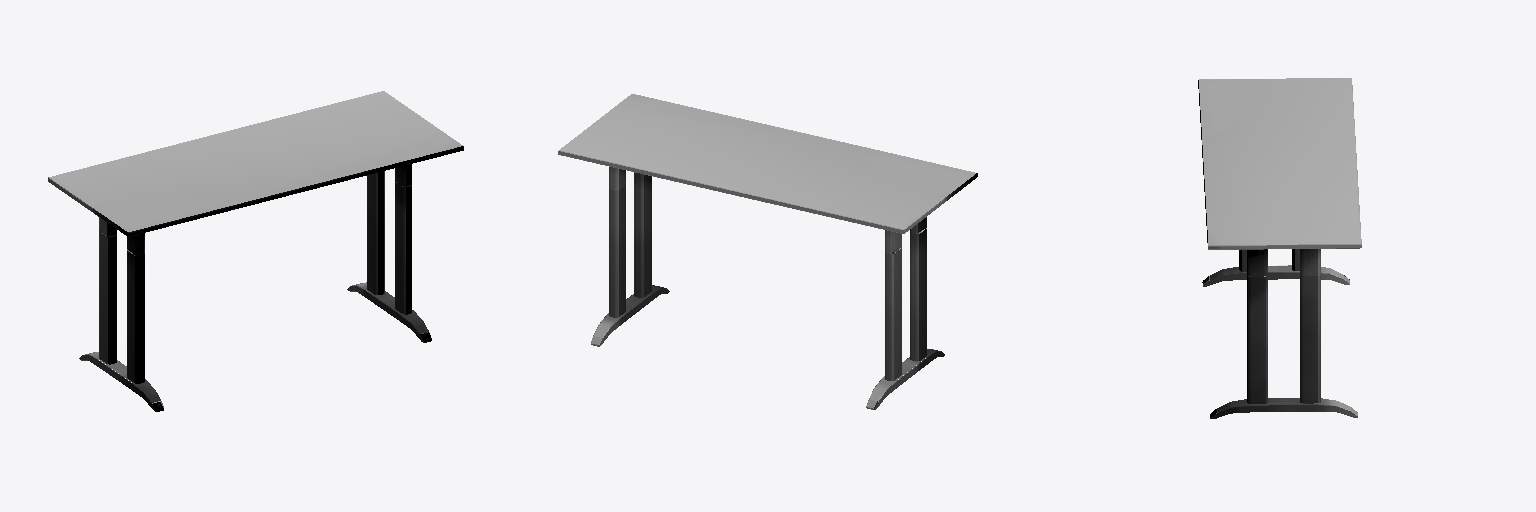
The picture shows the model from 3 angles: view 1: azimuth 30°, elevation 25°; view 2: azimuth 150°, elevation 25°; view 3: azimuth 270°, elevation 25°; orthographic projection.
Parts seen in each view (by area): view 1: DZYJY17; view 2: DZYJY17; view 3: DZYJY17.
Boxes of the visible parts, box(x1,y1,x2,y2) form: DZYJY17: box(48, 91, 463, 411); DZYJY17: box(558, 94, 977, 409); DZYJY17: box(1198, 78, 1361, 418).
Bounding box in the file's own units: 155 × 81.25 × 63.85.
Materials: 1 (1 with a texture image).